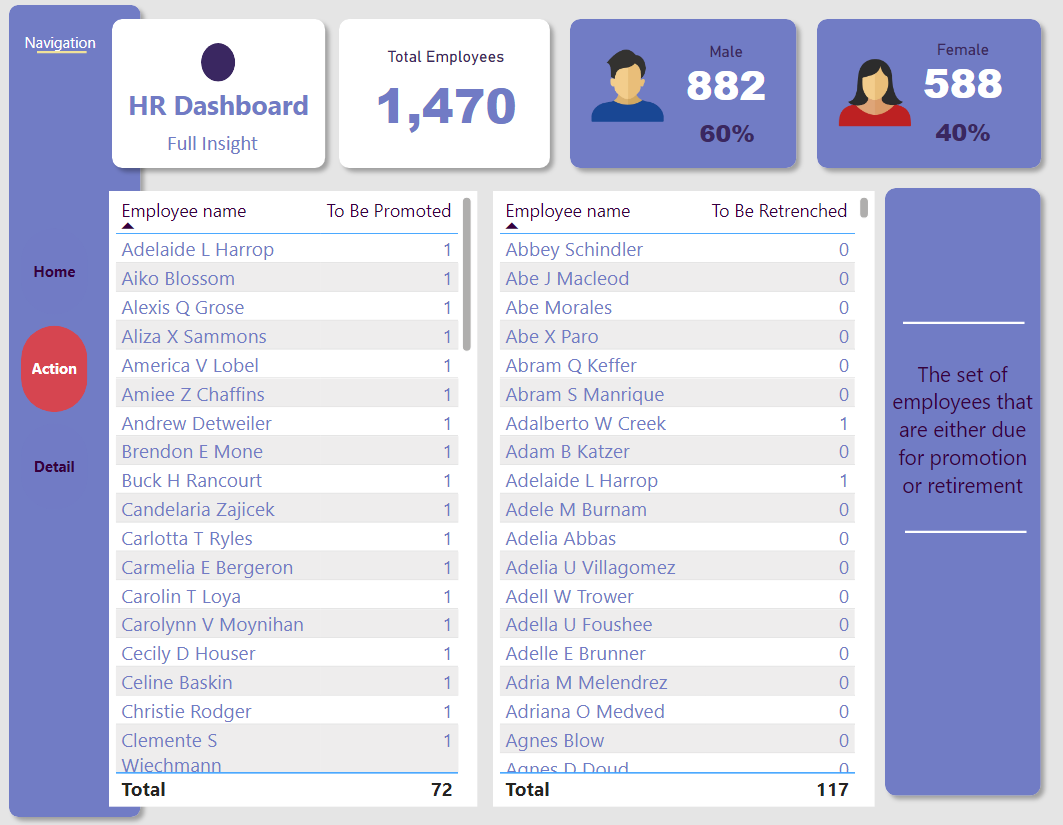

The dashboard page shown, as its layout file describes it:
{"tool":"powerbi","page":{"name":"Action","canvas":[960,750],"ordinal":1},"visuals":[{"type":"shape","box":[0,0,136.4,749.9],"z":0},{"type":"shape","box":[92.6,12.9,210.1,152.4],"z":2000},{"type":"shape","box":[297.8,12.9,208.1,152.4],"z":3000},{"type":"shape","box":[505.9,12.9,222.1,152.4],"z":4000},{"type":"shape","box":[728,12.9,220.1,152.4],"z":5000},{"type":"textbox","box":[99.6,77.7,197.2,48.8],"z":6000},{"type":"textbox","box":[93.6,116.5,197.2,48.8],"z":7000},{"type":"shape","box":[182.2,42.8,30.9,34.9],"z":8000},{"type":"card","title":"Total Employees","fields":{"Values":["All Measures.Total Emp"]},"box":[328.6,47.8,147.4,83.7],"z":9000},{"type":"card","title":"Male","fields":{"Values":["All Measures.Male"]},"box":[603.5,42.8,104.6,58.8],"z":10000},{"type":"card","title":"Male","fields":{"Values":["All Measures.% Male"]},"box":[617.4,106.6,77.7,38.8],"z":11000},{"type":"card","title":"Female","fields":{"Values":["All Measures.Female"]},"box":[816.6,41.9,104.6,58.8],"z":12000},{"type":"card","title":"Male","fields":{"Values":["All Measures.% Female"]},"box":[830.6,105.6,77.7,38.8],"z":13000},{"type":"image","box":[528.8,42.8,74.7,76.7],"z":14000},{"type":"image","box":[748.9,50.8,81.7,74.7],"z":15000},{"type":"tableEx","fields":{"Values":["HR employee data.Emplyee name","All Measures.To Be Promoted"]},"box":[99.6,176.3,331.6,554.7],"z":16000},{"type":"tableEx","fields":{"Values":["HR employee data.Emplyee name","All Measures.To Be Retrenched"]},"box":[445.1,176.3,343.6,554.7],"z":17000},{"type":"shape","box":[789.7,165.3,158.3,565.6],"z":18000},{"type":"textbox","box":[796.7,323.7,143.4,205.1],"z":19000},{"type":"shape","box":[814.6,145.4,109.5,300.7],"z":20000},{"type":"shape","box":[816.6,333.6,109.5,300.7],"z":21000},{"type":"textbox","box":[17.9,28.9,85.6,43.8],"z":22000},{"type":"shape","box":[33.9,12.9,44.8,77.7],"z":23000},{"type":"pageNavigator","box":[19.9,210.1,60.7,255.9],"z":23001}]}

Visuals, with their boxes in screenshot pixels (x1, y1, x2, y2), scaled from the page's 960x750 canvas onto the 1063x825 screenshot:
shape: x1=0 y1=0 x2=151 y2=824
shape: x1=103 y1=14 x2=335 y2=182
shape: x1=330 y1=14 x2=560 y2=182
shape: x1=560 y1=14 x2=806 y2=182
shape: x1=806 y1=14 x2=1050 y2=182
textbox: x1=110 y1=85 x2=329 y2=139
textbox: x1=104 y1=128 x2=322 y2=182
shape: x1=202 y1=47 x2=236 y2=85
"Total Employees" card: x1=364 y1=53 x2=527 y2=145
"Male" card: x1=668 y1=47 x2=784 y2=112
"Male" card: x1=684 y1=117 x2=770 y2=160
"Female" card: x1=904 y1=46 x2=1020 y2=111
"Male" card: x1=920 y1=116 x2=1006 y2=159
image: x1=586 y1=47 x2=668 y2=131
image: x1=829 y1=56 x2=920 y2=138
tableEx - HR employee data.Emplyee name x All Measures.To Be Promoted: x1=110 y1=194 x2=477 y2=804
tableEx - HR employee data.Emplyee name x All Measures.To Be Retrenched: x1=493 y1=194 x2=873 y2=804
shape: x1=874 y1=182 x2=1050 y2=804
textbox: x1=882 y1=356 x2=1041 y2=582
shape: x1=902 y1=160 x2=1023 y2=491
shape: x1=904 y1=367 x2=1025 y2=698
textbox: x1=20 y1=32 x2=115 y2=80
shape: x1=38 y1=14 x2=87 y2=100
pageNavigator: x1=22 y1=231 x2=89 y2=513
